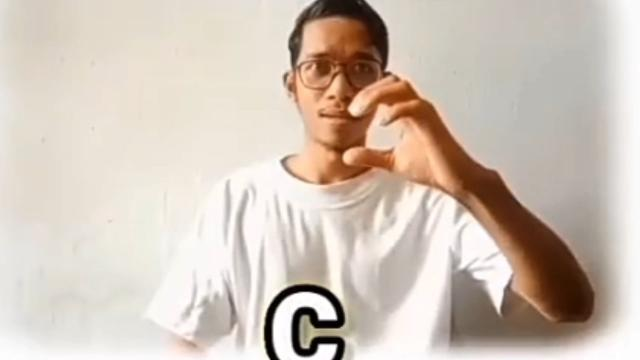C: (342, 74, 466, 198)
